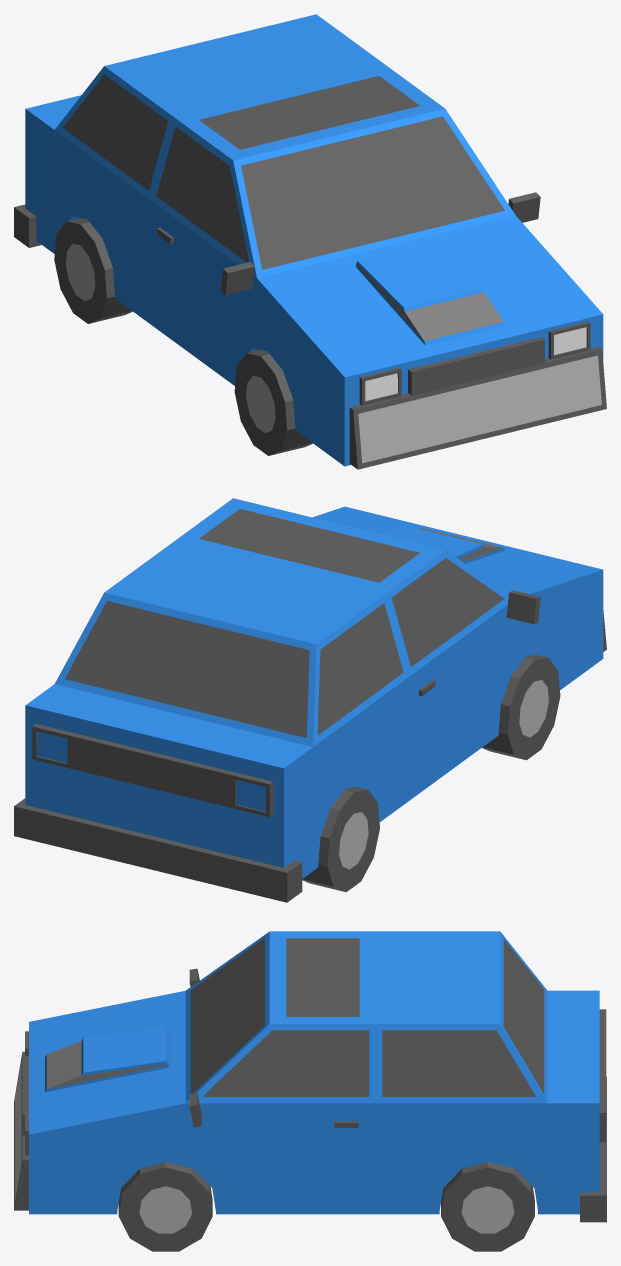
The model's file is SM_Car_09_04.FBX.
3 renders of one model, top to bottom at view 1: azimuth 30°, elevation 25°; view 2: azimuth 150°, elevation 25°; view 3: azimuth 270°, elevation 25°, orthographic. The views are drawn at different scales.
Visible parts, largest first — view 1: SM_Car_09_04, SM_Wheel_LFront002, SM_Wheel_RBack001; view 2: SM_Car_09_04, SM_Wheel_LFront002, SM_Wheel_RBack001; view 3: SM_Car_09_04, SM_Wheel_LFront001, SM_Wheel_LBack001.
Boxes of the visible parts, x1=… form: SM_Car_09_04: x1=14, y1=14, x2=606, y2=469; SM_Wheel_LFront002: x1=234, y1=350, x2=312, y2=455; SM_Wheel_RBack001: x1=54, y1=218, x2=132, y2=323; SM_Car_09_04: x1=14, y1=498, x2=606, y2=902; SM_Wheel_LFront002: x1=482, y1=654, x2=560, y2=760; SM_Wheel_RBack001: x1=302, y1=786, x2=379, y2=892; SM_Car_09_04: x1=14, y1=931, x2=606, y2=1222; SM_Wheel_LFront001: x1=118, y1=1161, x2=212, y2=1251; SM_Wheel_LBack001: x1=441, y1=1161, x2=534, y2=1251.
Bounding box in the file's own units: 1.7 × 1.25 × 3.12.
1 material, 1 textured.
